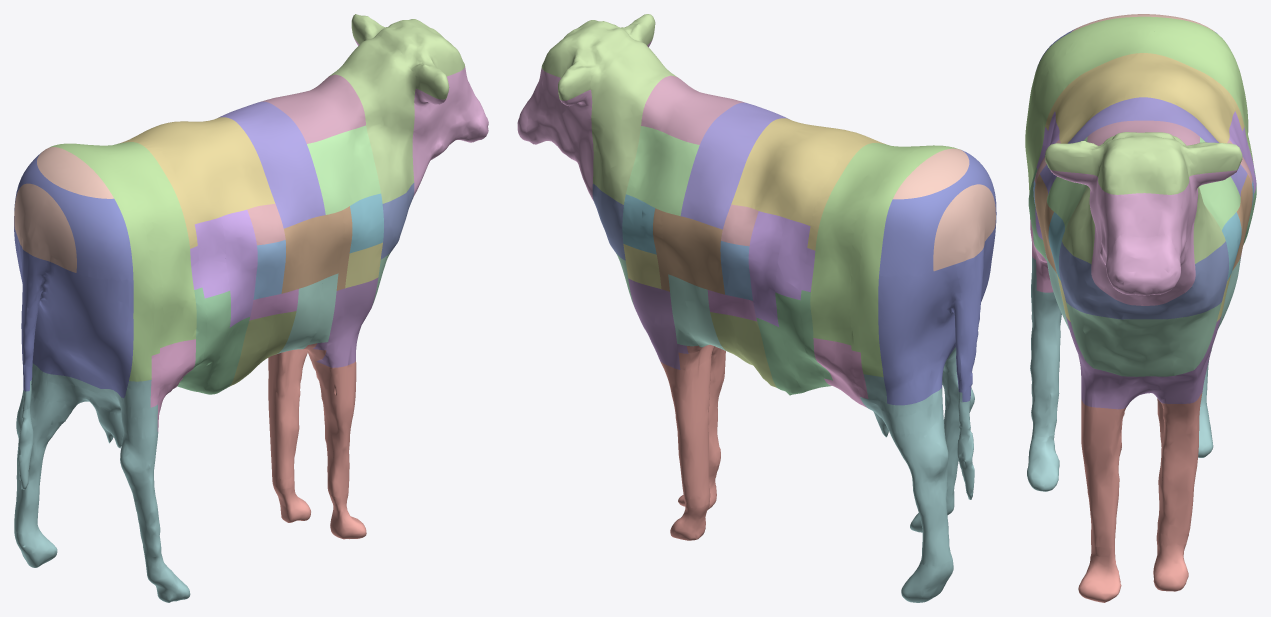
The picture shows the model from 3 angles, left to right: view 1: azimuth 30°, elevation 25°; view 2: azimuth 150°, elevation 25°; view 3: azimuth 270°, elevation 25°; orthographic projection. The views are drawn at different scales.
Parts seen in each view (by area): view 1: udun, satae, seoldo, moksim, apsatae, chaekkeut, kkotdeungsim, kkori, ansim, useol, galbi, chimasal (+12 smaller); view 2: udun, seoldo, satae, moksim, chaekkeut, apsatae, kkotdeungsim, kkori, ansim, useol, chimasal, galbi (+12 smaller); view 3: apsatae, useol, moksim, seoldo, chaekkeut, chadolbagi, satae, jebichuri, yangji, kkotdeungsim, deungsim, galbi (+7 smaller).
Part boxes in pixels (bbox=[...]): udun: bbox=[14, 152, 133, 398]; satae: bbox=[14, 363, 190, 602]; seoldo: bbox=[49, 142, 196, 381]; moksim: bbox=[329, 14, 464, 203]; apsatae: bbox=[268, 343, 366, 539]; chaekkeut: bbox=[119, 117, 275, 248]; kkotdeungsim: bbox=[218, 101, 325, 228]; kkori: bbox=[14, 147, 113, 272]; ansim: bbox=[190, 209, 257, 327]; useol: bbox=[354, 39, 488, 197]; galbi: bbox=[281, 206, 352, 293]; chimasal: bbox=[177, 287, 249, 394]; udun: bbox=[878, 150, 996, 405]; seoldo: bbox=[810, 143, 959, 377]; satae: bbox=[860, 347, 974, 602]; moksim: bbox=[541, 14, 676, 204]; chaekkeut: bbox=[731, 118, 885, 250]; apsatae: bbox=[660, 344, 725, 540]; kkotdeungsim: bbox=[680, 102, 789, 229]; kkori: bbox=[893, 148, 995, 271]; ansim: bbox=[748, 211, 815, 326]; useol: bbox=[517, 40, 652, 200]; chimasal: bbox=[756, 290, 832, 395]; galbi: bbox=[653, 208, 724, 294]; apsatae: bbox=[1078, 393, 1202, 602]; useol: bbox=[1050, 169, 1237, 305]; moksim: bbox=[1045, 132, 1242, 264]; seoldo: bbox=[1025, 16, 1253, 219]; chaekkeut: bbox=[1045, 53, 1244, 143]; chadolbagi: bbox=[1066, 302, 1221, 376]; satae: bbox=[1027, 256, 1213, 491]; jebichuri: bbox=[1059, 241, 1228, 319]; yangji: bbox=[1066, 316, 1221, 409]; kkotdeungsim: bbox=[1040, 97, 1247, 196]; deungsim: bbox=[1047, 137, 1240, 230]; galbi: bbox=[1034, 174, 1252, 273].
Size of the model in its own units: 1 by 0.995 by 0.4133.
